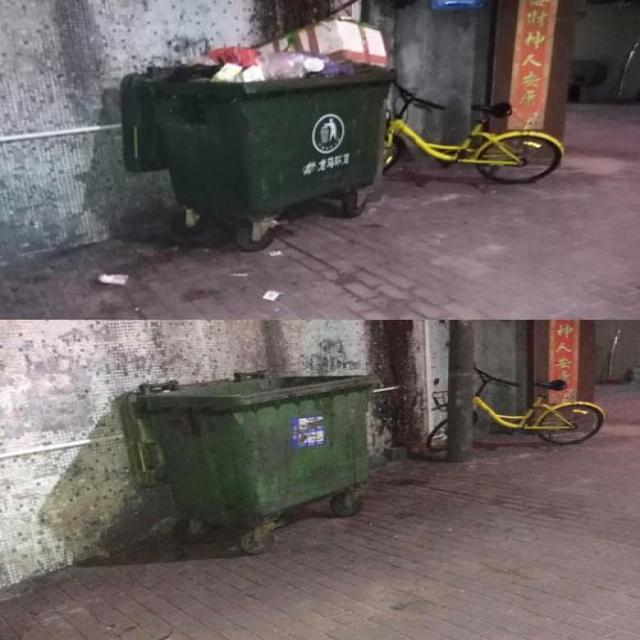garbage_bin: (120, 369, 372, 524)
overflow: (119, 18, 396, 218)
